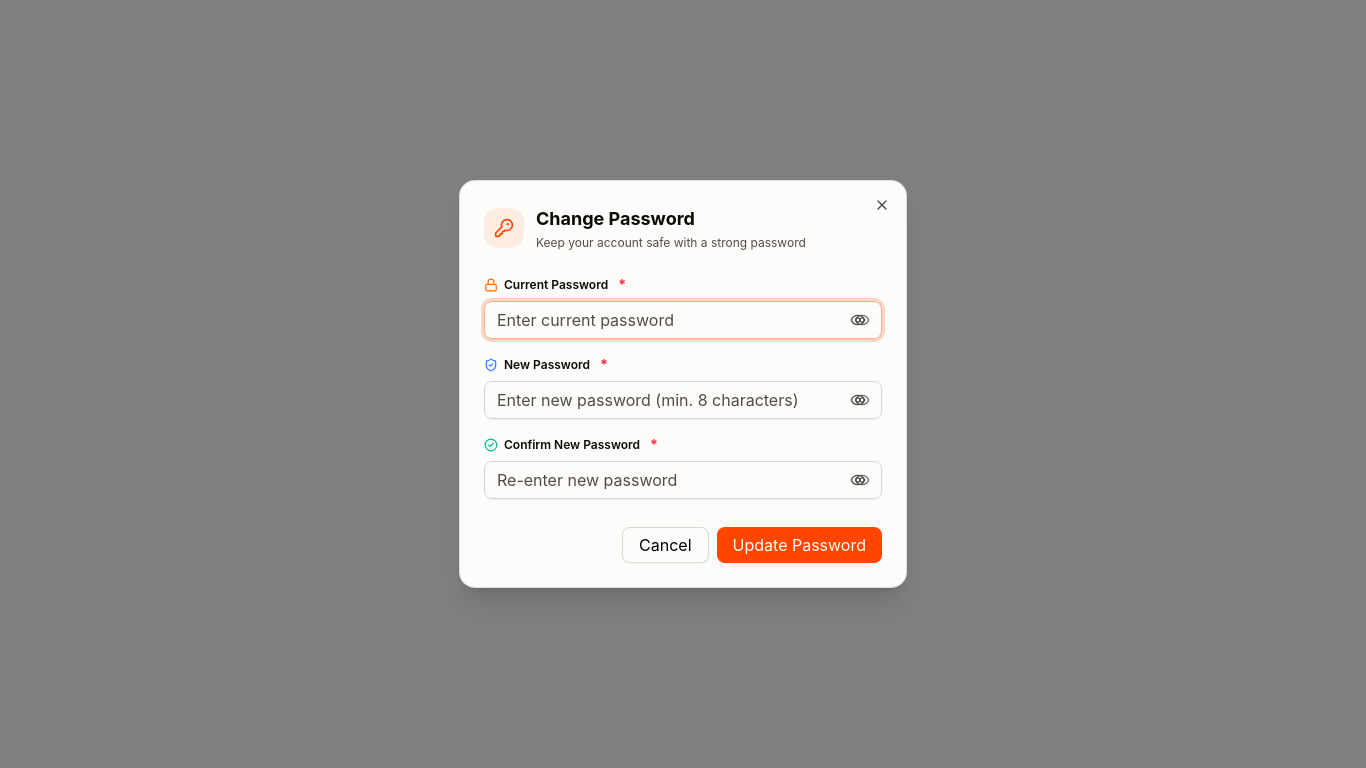
Scenario: ChangePasswordDialog › shows validation error when new password is too short
Step 1. Type "OldPass1!" into the password field labelled "Current Password" → (683, 320), box [484, 301, 882, 339]
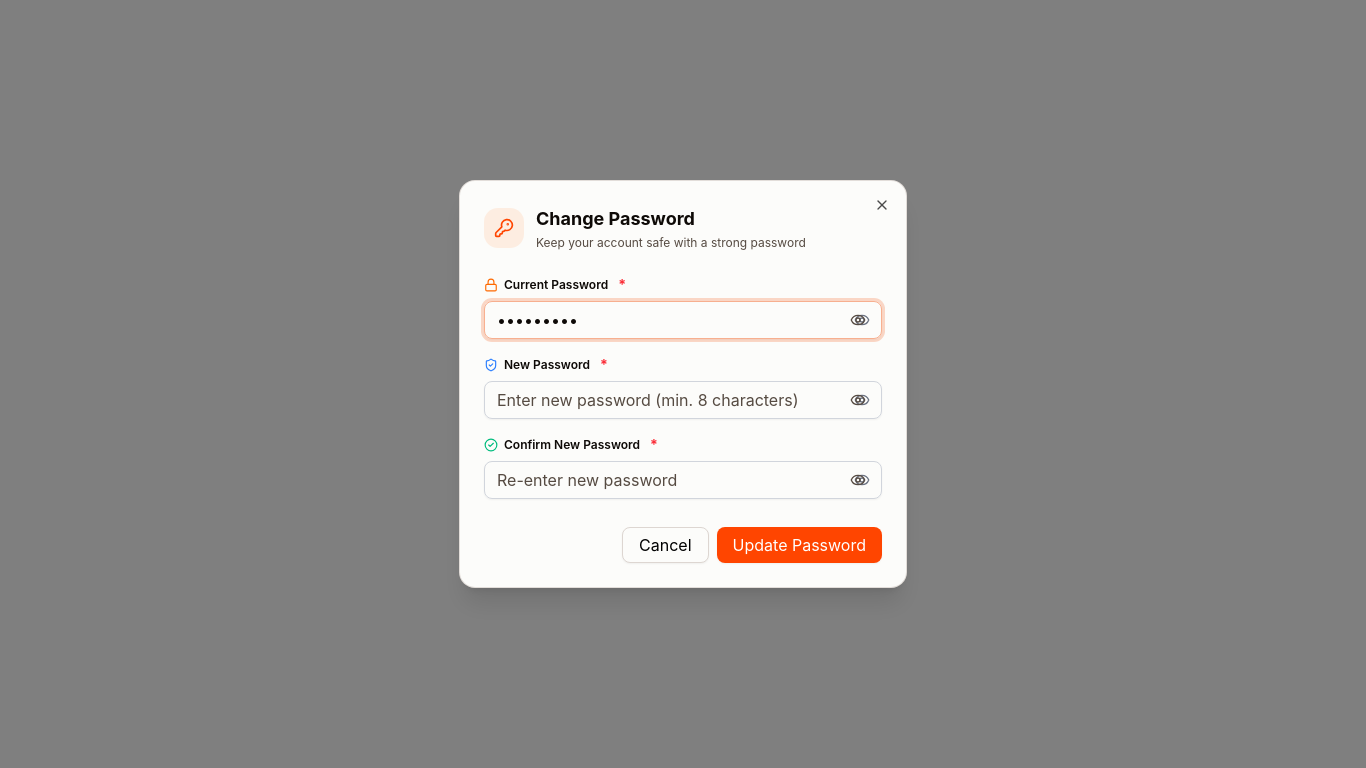
Step 2. Type "short" into the password field labelled "New Password" → (683, 400), box [484, 381, 882, 419]
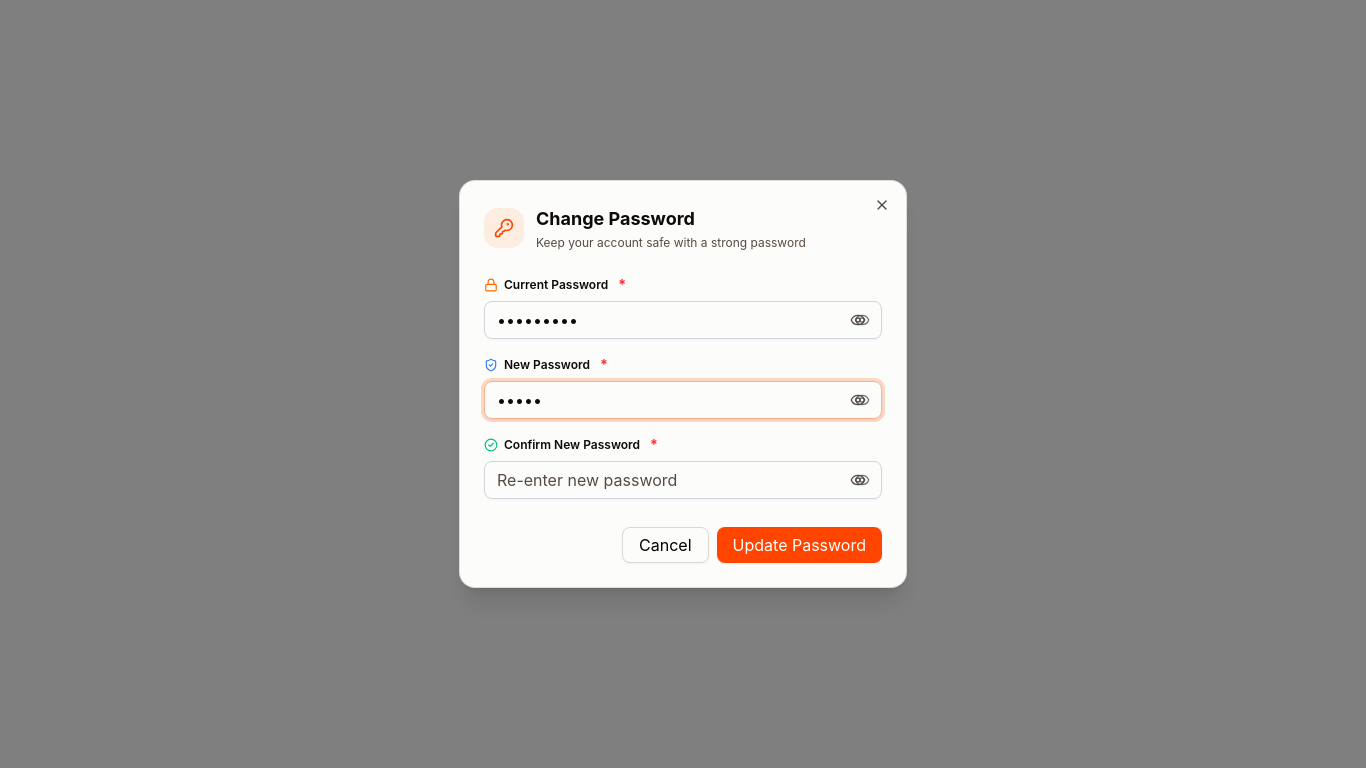
Step 3. Click the button "Update Password" → (799, 545), box [717, 527, 882, 563]
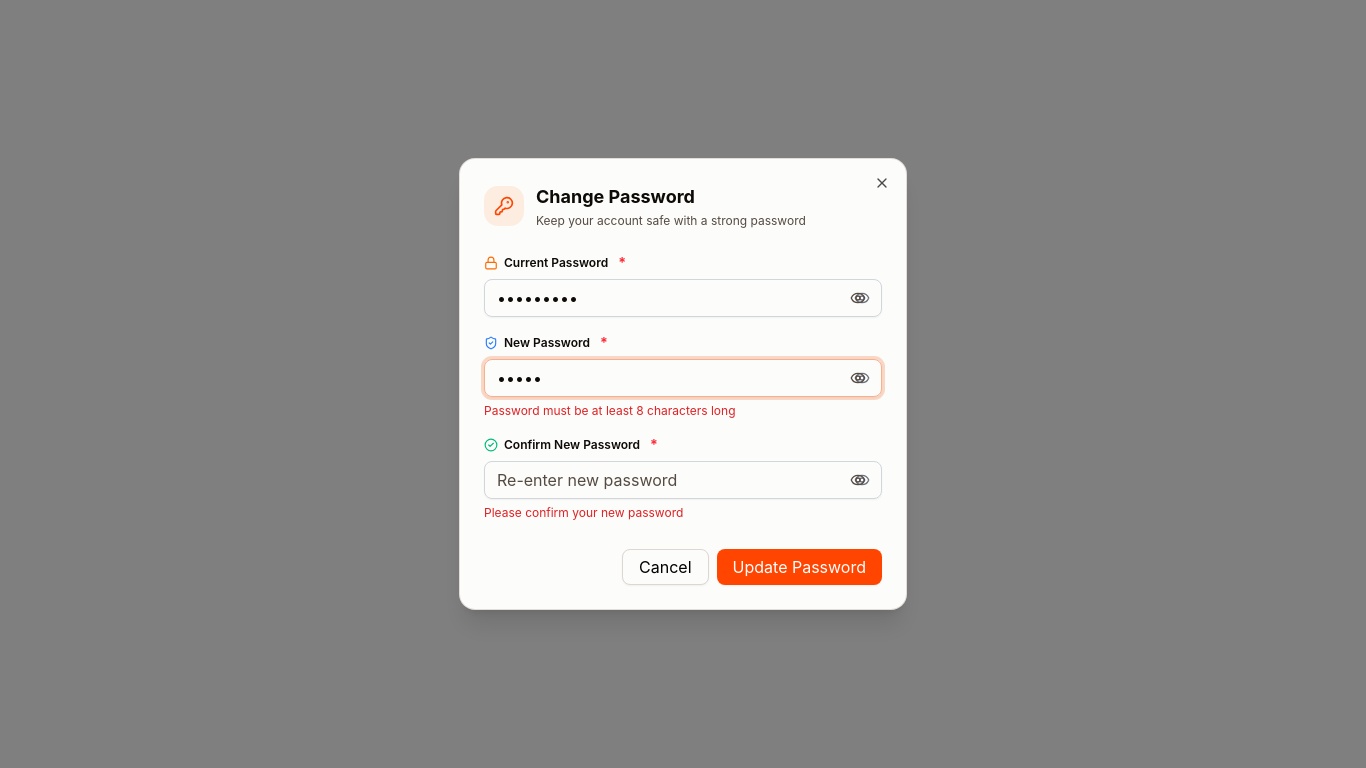
Expected: the text "Password must be at least 8 characters long" is shown, [484, 403, 736, 418]
